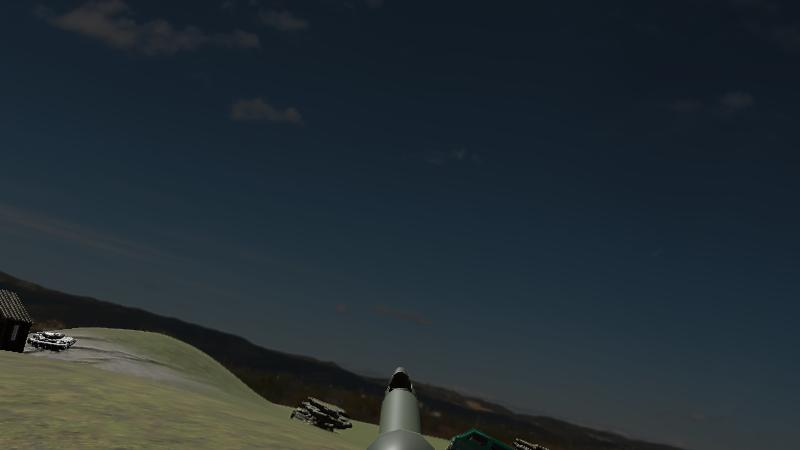Tank: (28, 327, 81, 352)
